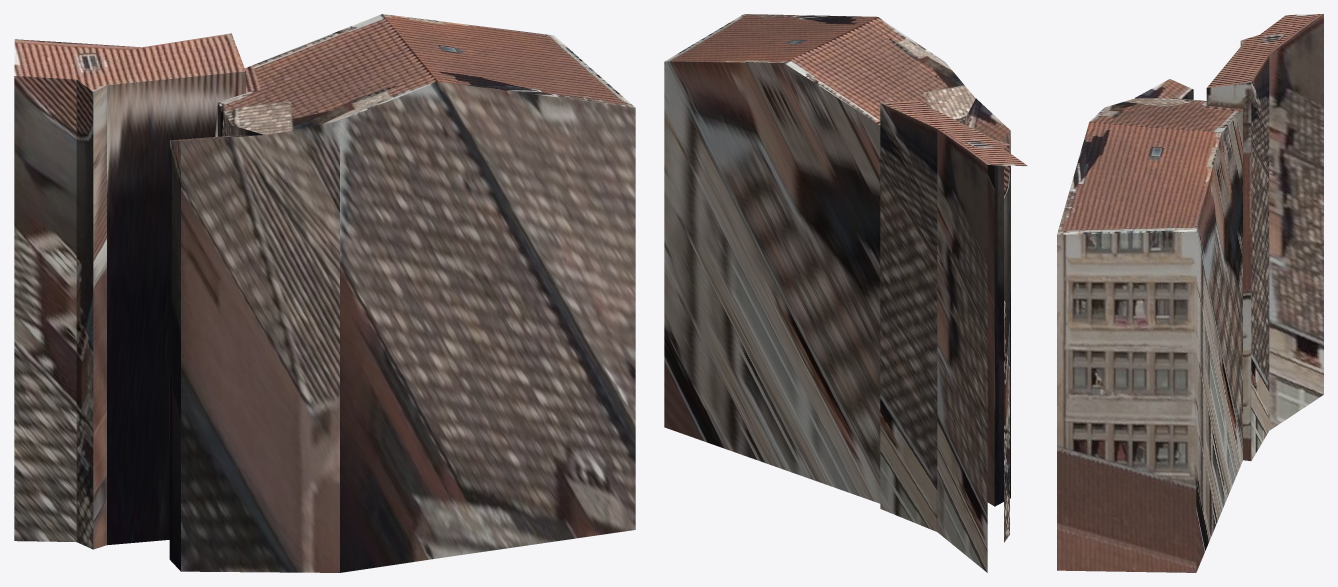
3 views of the same model, side by side, from view 1: azimuth 30°, elevation 25°; view 2: azimuth 150°, elevation 25°; view 3: azimuth 270°, elevation 25° (orthographic). The views are drawn at different scales.
Parts seen in each view (by area): view 1: Z_UP; view 2: Z_UP; view 3: Z_UP.
Boxes of the visible parts, x1,y1,x2,y2 form: Z_UP: (14,14,635,572); Z_UP: (664,14,1027,572); Z_UP: (1057,14,1323,572).
Bounding box in the file's own units: 20.67 × 19.54 × 12.42.
Materials: 2 (1 with a texture image).
